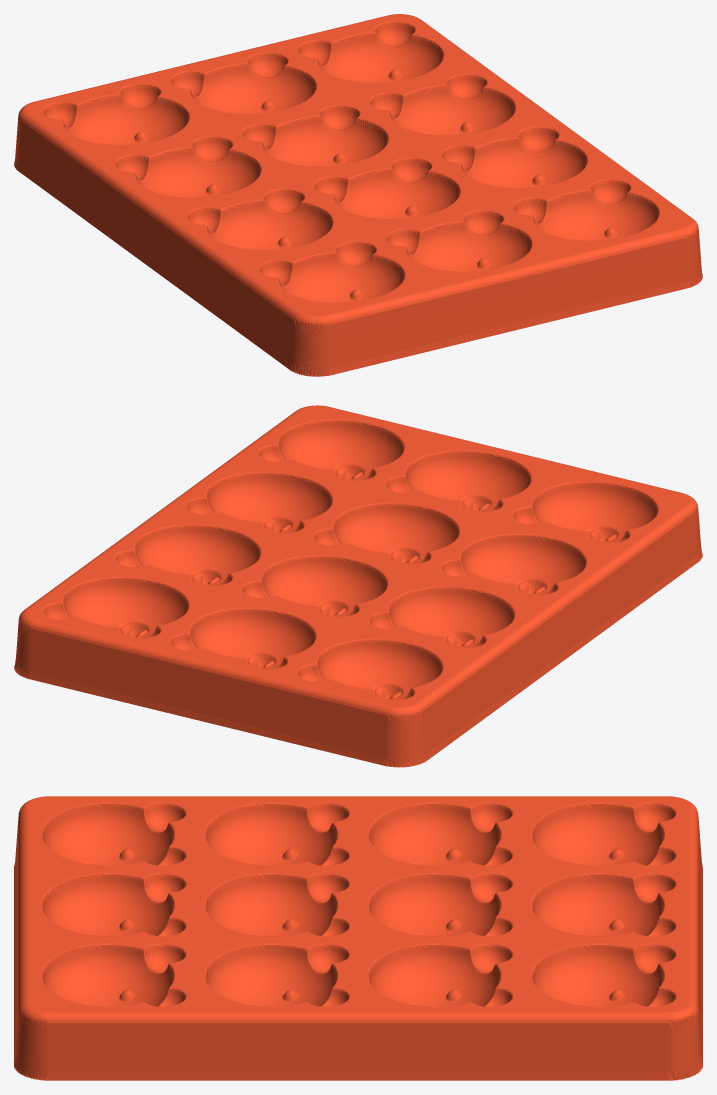
Rendered from mold.glb.
3 renders of one model, top to bottom at view 1: azimuth 30°, elevation 25°; view 2: azimuth 150°, elevation 25°; view 3: azimuth 270°, elevation 25°, orthographic. The views are drawn at different scales.
Visible parts, largest first — view 1: geometry_0; view 2: geometry_0; view 3: geometry_0.
Part boxes in pixels (left/top/right/bottom): geometry_0: left=14, top=14, right=702, bottom=376; geometry_0: left=14, top=405, right=702, bottom=767; geometry_0: left=14, top=796, right=702, bottom=1080.
Bounding box in the file's own units: 0.1353 × 0.0175 × 0.1738.
